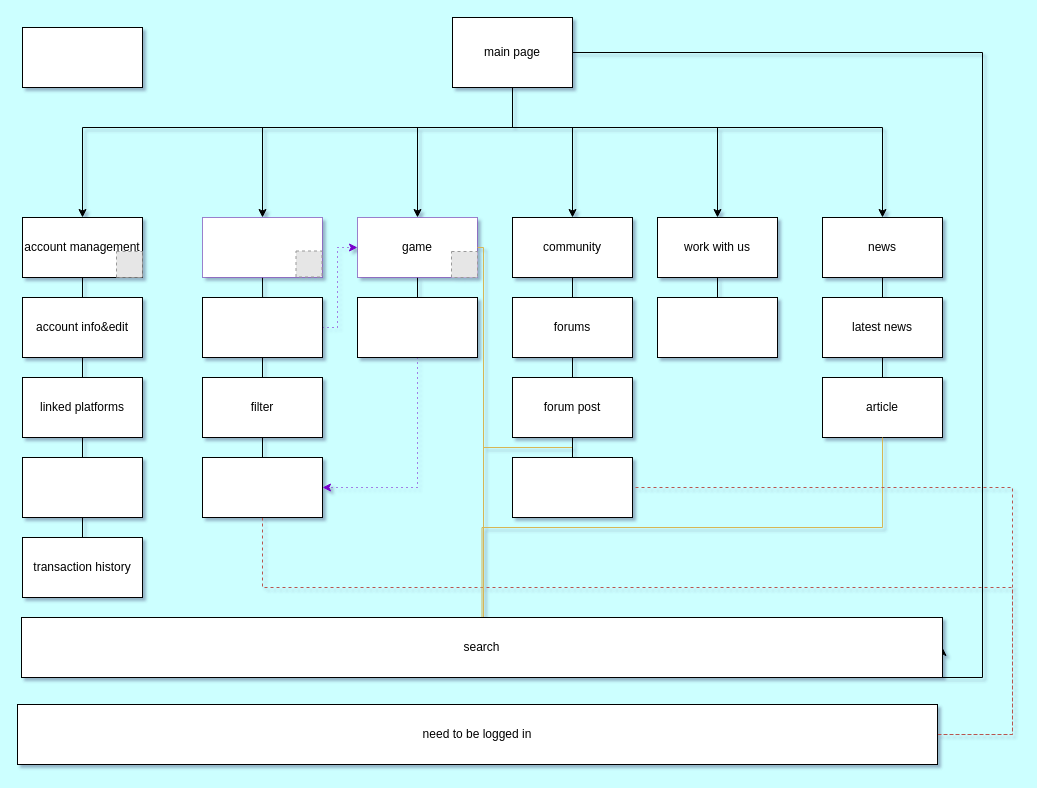
Image size: 1037x788. Some labels were removed from this diagram. Grey dashed boxes stand in for pictures. Here are the shapes that lost their labels. From the top down, the box of each, then its label:
(22, 26, 142, 88): menu
(202, 216, 322, 278): store
(202, 296, 322, 358): view
(356, 296, 478, 358): buy function
(656, 296, 778, 358): Lyon
(22, 456, 142, 518): redeem codes
(202, 456, 322, 518): purchase
(512, 456, 632, 518): post new
